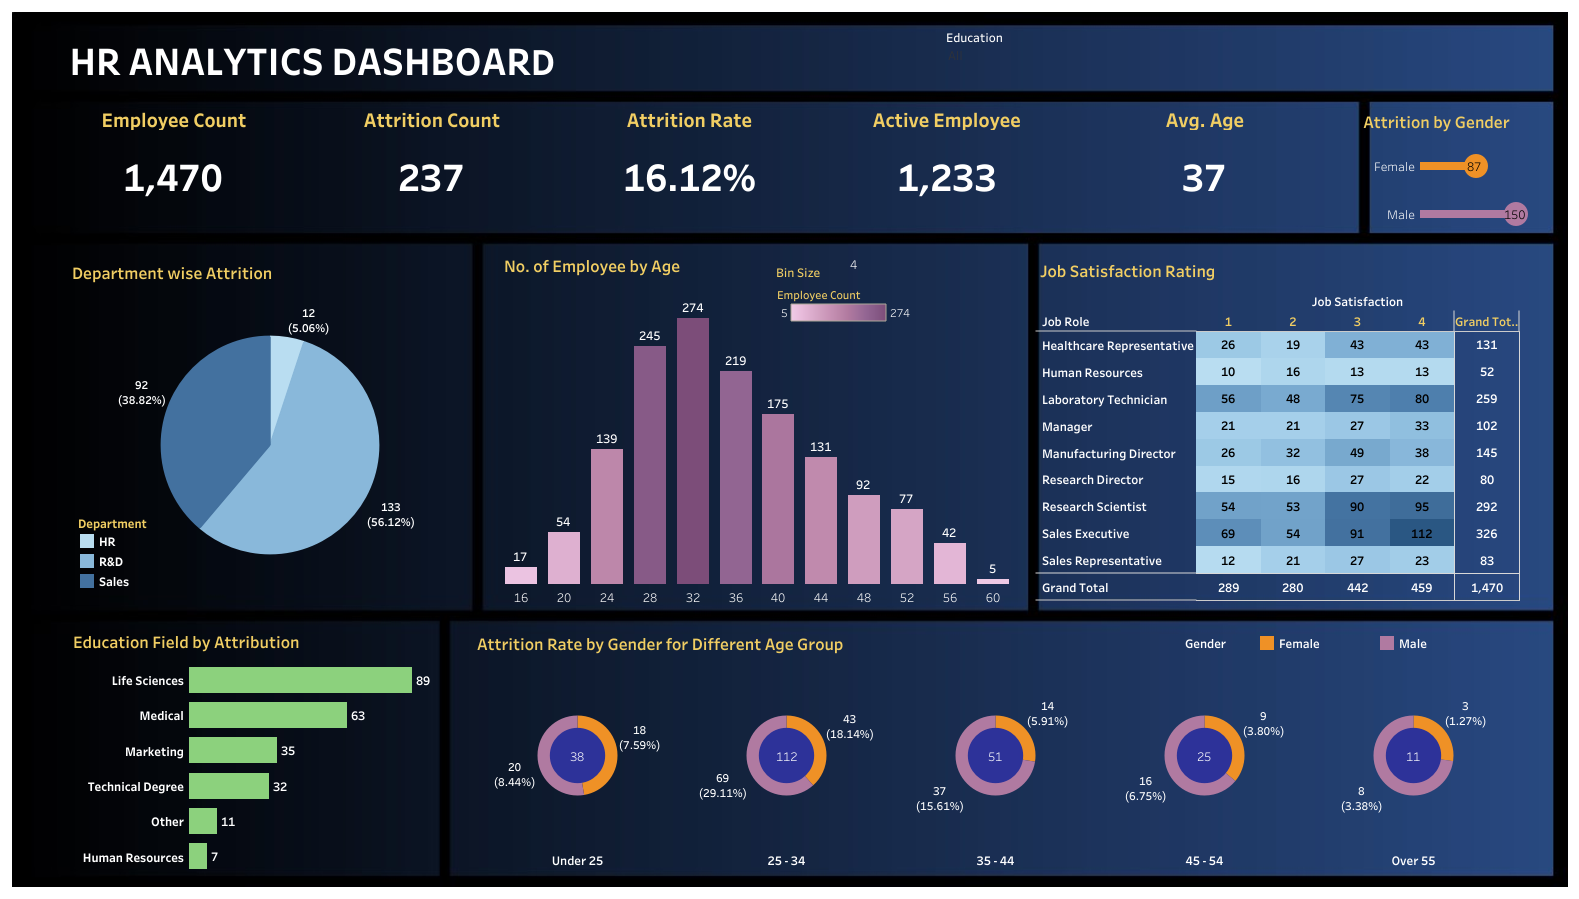

Layout of this report page (visuals, bound fields, positions):
{"tool":"tableau","page":{"name":"HR Analysis Dashboard","canvas":[1000,1000],"units":"permille","ordinal":0},"visuals":[{"type":"image","param":"Image/BG.jpg","box":[4.9,8.9,990.2,982.2]},{"type":"text","box":[42.1,15.6,469.2,101.1]},{"type":"filter","title":"Department wise Attrition","param":"[federated.0zq3vo70tcscdg1d1bvga0joabt4].[none:Education:nk]","box":[598.7,30,119.1,62.2]},{"type":"worksheet","title":"Attrition by Gender","mark":"Bar","rows":["Gender"],"cols":["Calculation_530298883490258944","Calculation_530298883490258944"],"box":[847.9,115.6,122.2,148.9]},{"type":"worksheet","title":"KPI","mark":"Automatic","box":[28.7,121.1,815.5,126.7]},{"type":"worksheet","title":"No. of Employee by Age","mark":"Automatic","rows":["Employee Count"],"cols":["Age (bin)"],"box":[316.4,275.6,325.6,397.8]},{"type":"worksheet","title":"Job Satisfaction Rating","mark":"Square","rows":["Job Role"],"cols":["Job Satisfaction"],"box":[655.5,281.1,306.7,386.7]},{"type":"worksheet","title":"Department wise Attrition","mark":"Pie","box":[42.8,283.3,256,380]},{"type":"parameter","param":"[Parameters].[Parameter 1]","box":[491.1,283.3,139.9,36.7]},{"type":"legend","title":"No. of Employee by Age","param":"[federated.0zq3vo70tcscdg1d1bvga0joabt4].[sum:Employee Count:qk]","box":[491.8,314.4,87.4,57.8]},{"type":"legend","title":"Department wise Attrition","param":"[federated.0zq3vo70tcscdg1d1bvga0joabt4].[none:Department:nk]","box":[48.9,568.9,72.7,96.7]},{"type":"worksheet","title":"Education Field by Attrition","mark":"Automatic","rows":["Education Field"],"cols":["Calculation_530298883490258944"],"box":[44,693.3,238.8,277.8]},{"type":"worksheet","title":"Attrition Rate by Gender for Different Age Group","mark":"Pie","rows":["Calculation_530298883544444934","Calculation_530298883544444934"],"cols":["CF_age band"],"box":[299.3,695.6,661.6,270]},{"type":"legend","title":"Attrition Rate by Gender for Different Age Group","param":"[federated.0zq3vo70tcscdg1d1bvga0joabt4].[none:Gender:nk]","box":[750.1,703.3,207.1,33.3]}]}

Visuals, with their boxes on the dashboard's canvas, which has no fixed pixel size, in thousandths of its width and height (x1, y1, x2, y2). These are canvas units, not pixel positions in the 1579x899 screenshot, which may show the page scaled, cropped or inside an application window:
image: x1=5 y1=9 x2=995 y2=991
text: x1=42 y1=16 x2=511 y2=117
"Department wise Attrition" filter: x1=599 y1=30 x2=718 y2=92
"Attrition by Gender" worksheet (Bar marks): x1=848 y1=116 x2=970 y2=264
"KPI" worksheet: x1=29 y1=121 x2=844 y2=248
"No. of Employee by Age" worksheet: x1=316 y1=276 x2=642 y2=673
"Job Satisfaction Rating" worksheet (Square marks): x1=656 y1=281 x2=962 y2=668
"Department wise Attrition" worksheet (Pie marks): x1=43 y1=283 x2=299 y2=663
parameter: x1=491 y1=283 x2=631 y2=320
"No. of Employee by Age" legend: x1=492 y1=314 x2=579 y2=372
"Department wise Attrition" legend: x1=49 y1=569 x2=122 y2=666
"Education Field by Attrition" worksheet: x1=44 y1=693 x2=283 y2=971
"Attrition Rate by Gender for Different Age Group" worksheet (Pie marks): x1=299 y1=696 x2=961 y2=966
"Attrition Rate by Gender for Different Age Group" legend: x1=750 y1=703 x2=957 y2=737
